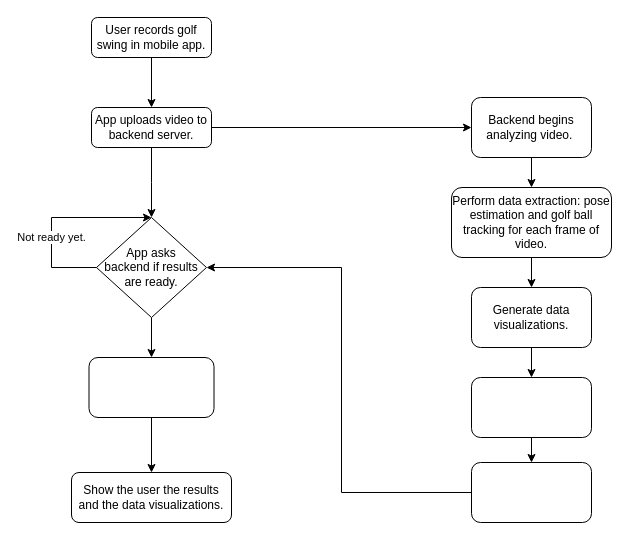
The diagram is 629 pixels wide and 540 high, and some of its shapes have lost their labels. Each missing label, with the centre of its shape:
Fetch analysis results and visualizations from backend.: (151,387)
Save result of analysis and notify app that results are ready.: (531,492)
Use data to calculate key metrics and swing feedback.: (531,407)
